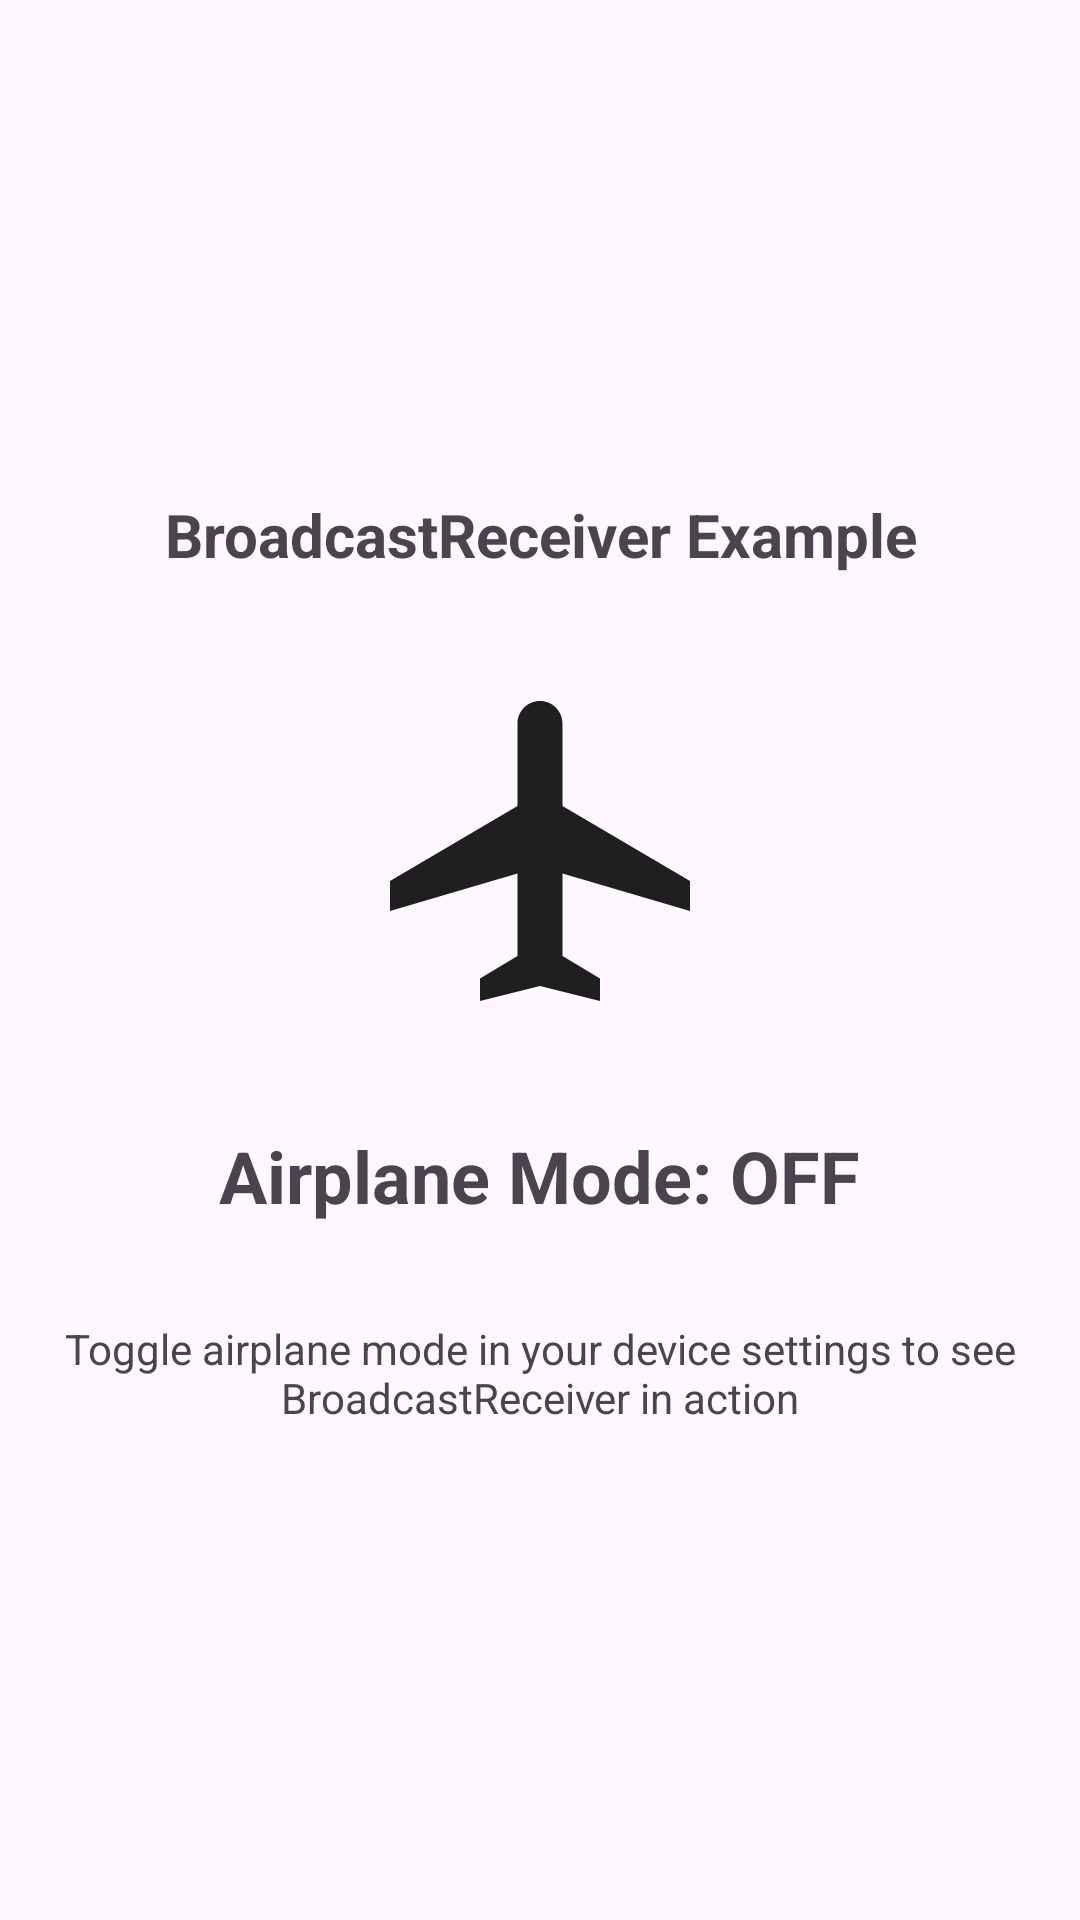

Screen size 1080*1920. Icon name, then its box in pixels as (x1, y1, x2, y2):
airplane mode on: (390, 701, 690, 1001)
